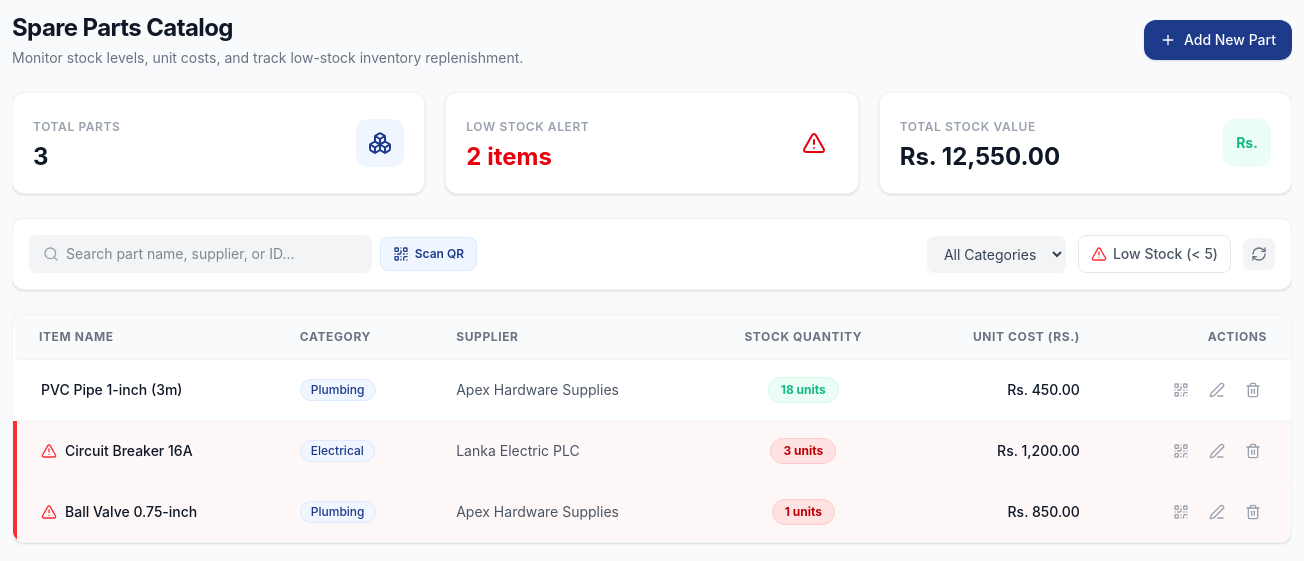
Test: InventoryDashboard - UI & Low-Stock Alert Suite › filters catalog items in real-time as search query is typed
The width and height of the screenshot is (1304, 561).
Check: the text "PVC Pipe 1-inch (3m)" is shown, box [41,380,182,400]
In the field with placeholder "Search part name, supplier, or ID...": (200, 254) [29,235,372,273], type "Circuit"
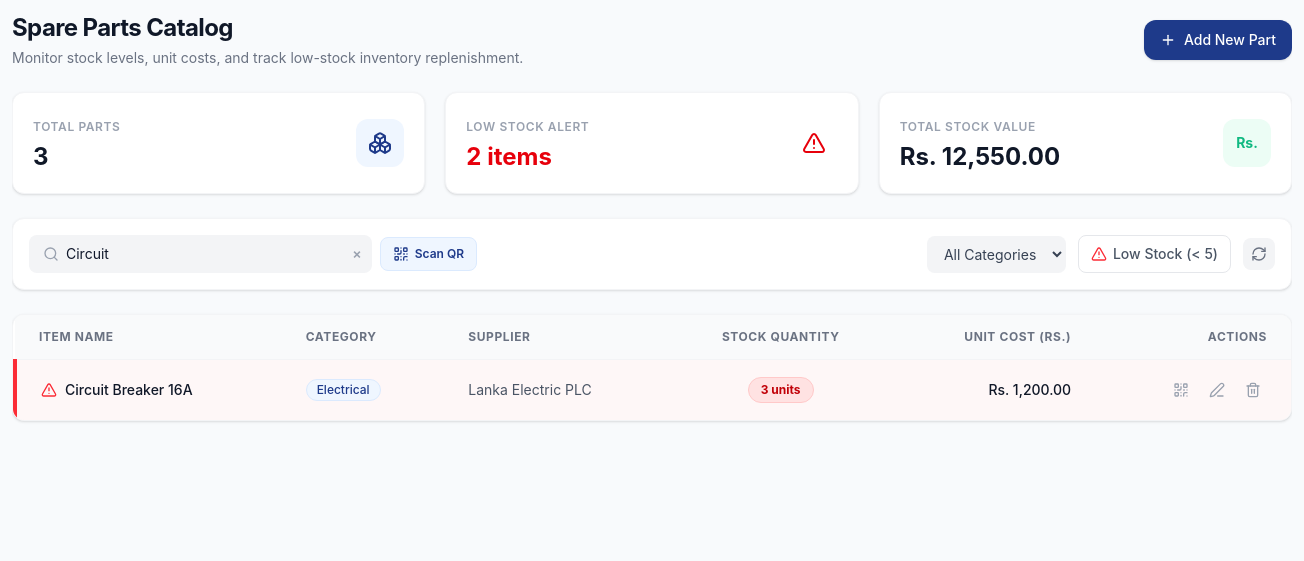
Check: the text "Circuit Breaker 16A" is shown, box [65,380,193,400]
Check: the text "PVC Pipe 1-inch (3m)" is gone
Check: the text "Ball Valve 0.75-inch" is gone
